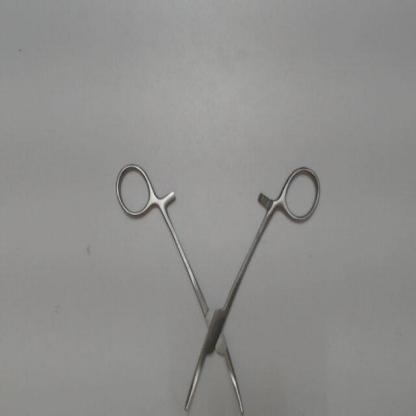Crile Artery Forceps: (109, 155, 326, 414)
